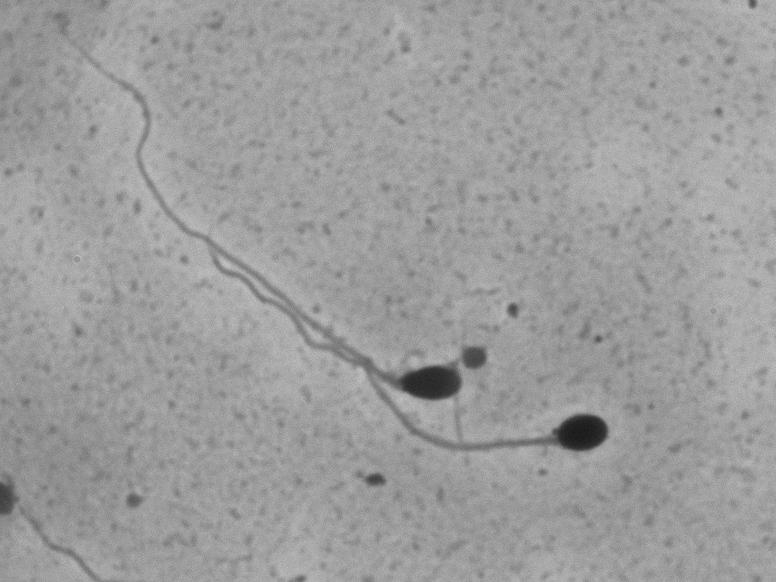Abnormal: (368, 405, 641, 499)
Normal: (53, 21, 488, 404)
